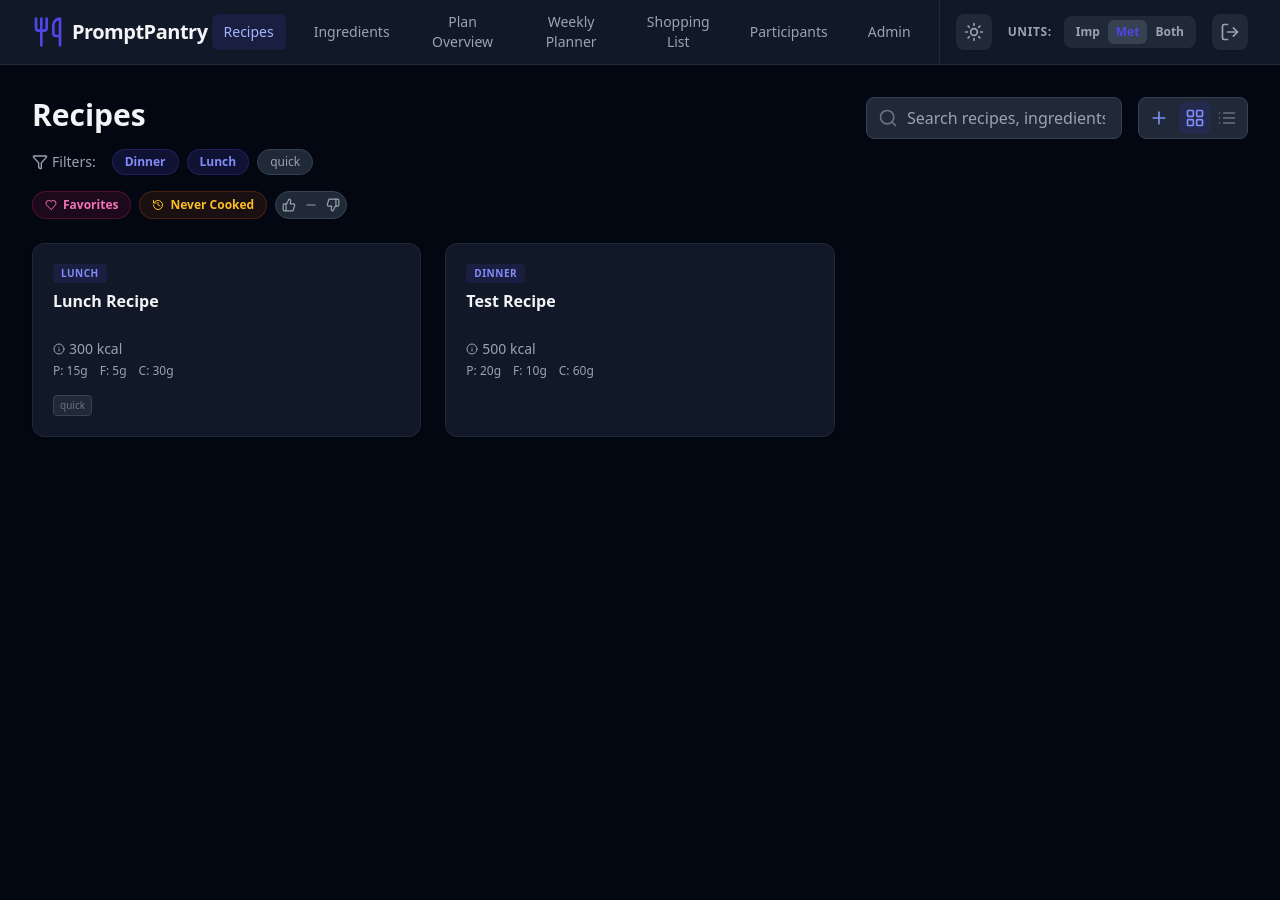
Test: App › can open and close recipe modal
Step 1. Click the heading "Test Recipe" → {"x": 511, "y": 301}, box [466,290,556,312]
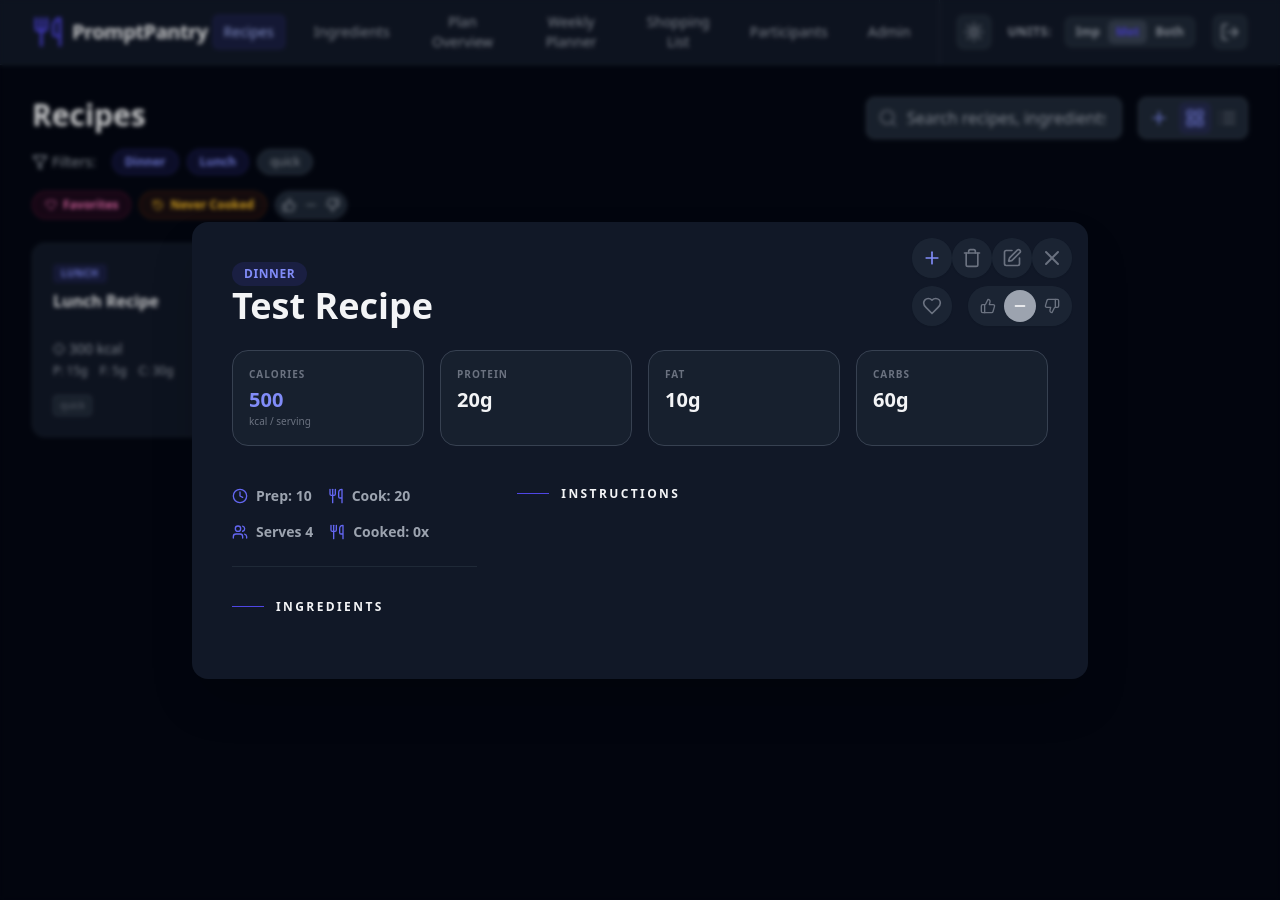
Expected: the dialog is shown
Step 2. Click the button titled "Close Modal" → {"x": 1052, "y": 258}, box [1032,238,1072,278]
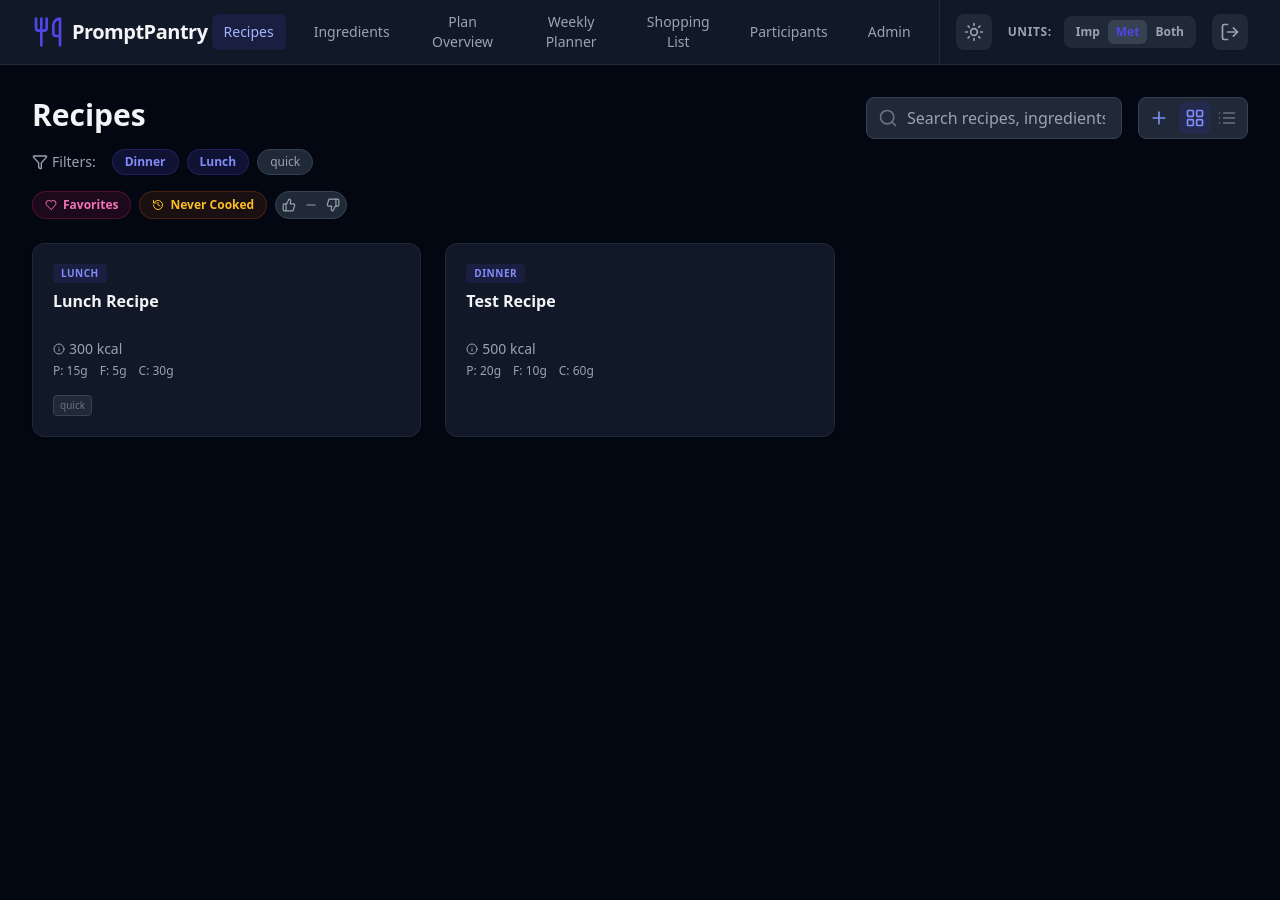
Expected: the dialog is gone
